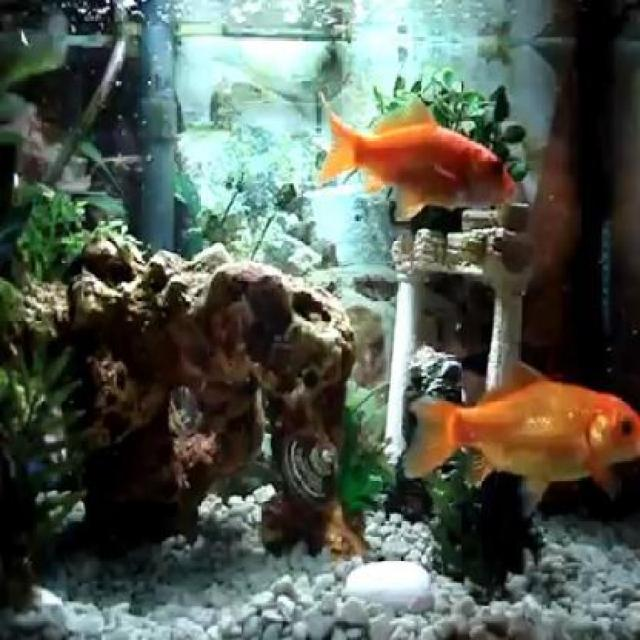GoldFish: (408, 354, 638, 504), (316, 90, 516, 221)
